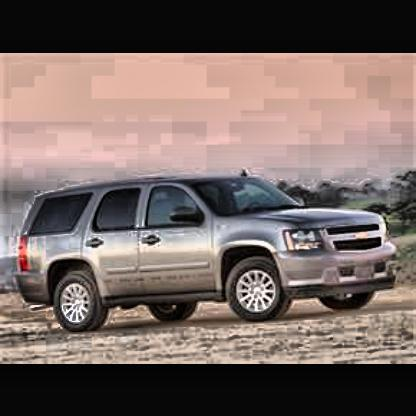Chevrolet Tahoe Hybrid SUV 2012: (18, 169, 402, 322)
